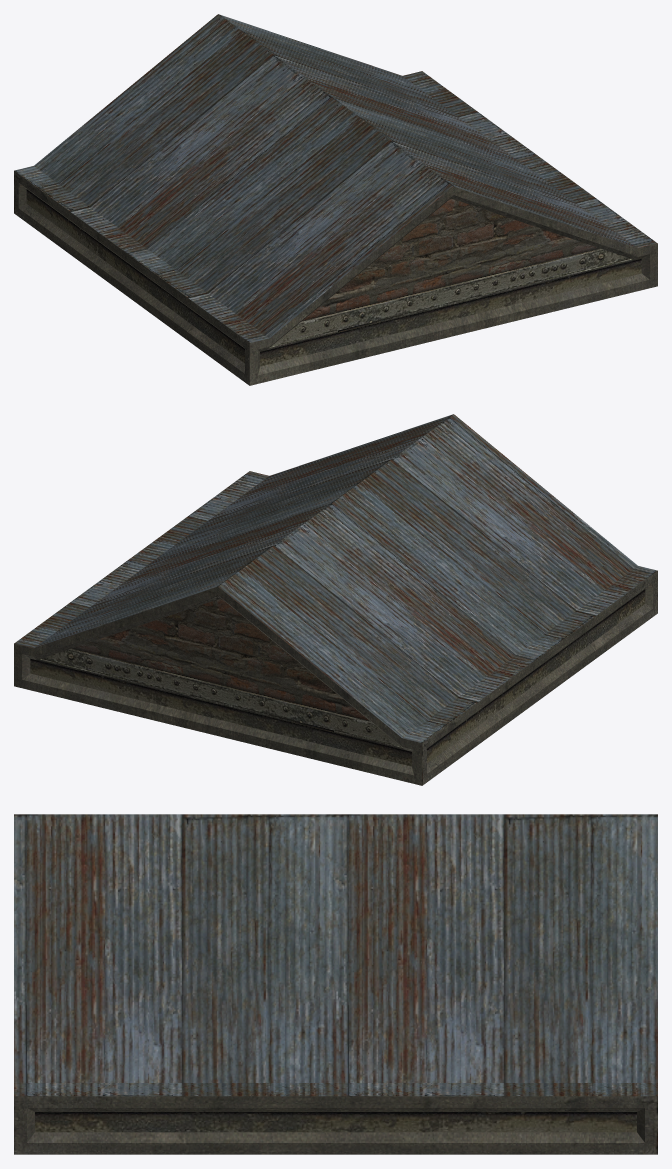
Rendered from roof_bx_2.obj.
3 renders of one model, top to bottom at view 1: azimuth 30°, elevation 25°; view 2: azimuth 150°, elevation 25°; view 3: azimuth 270°, elevation 25°, orthographic. The views are drawn at different scales.
Parts seen in each view (by area): view 1: roof_bx_2; view 2: roof_bx_2; view 3: roof_bx_2.
Part boxes in pixels (x1=…): roof_bx_2: x1=14, y1=14, x2=657, y2=385; roof_bx_2: x1=14, y1=414, x2=657, y2=785; roof_bx_2: x1=14, y1=814, x2=657, y2=1154.
Size of the model in its own units: 4 by 1.4 by 4.
